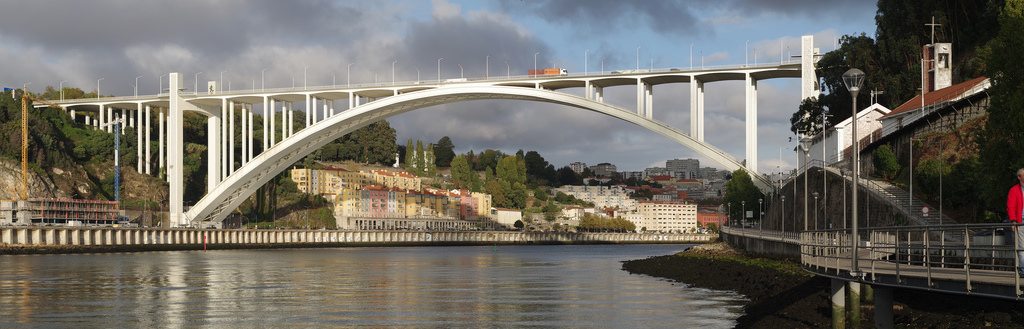arrabida: (0, 35, 834, 229)
